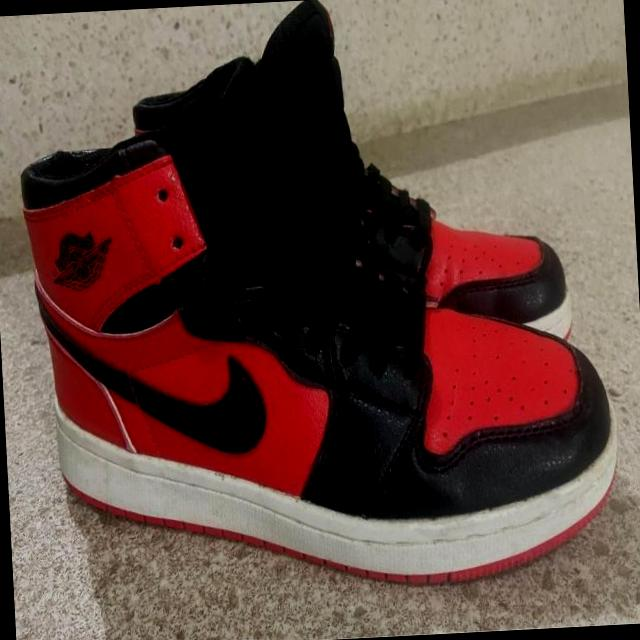nike_fake_jordan: (14, 36, 628, 596), (124, 0, 573, 367)
